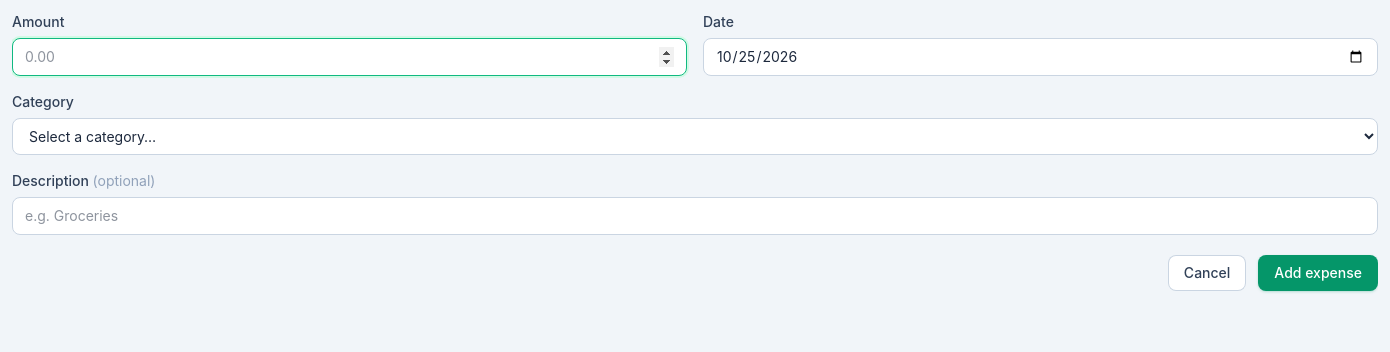
it: TransactionForm › requires an amount
Click the button "Add expense" at {"x": 1318, "y": 273}, box [1258,255,1378,291]
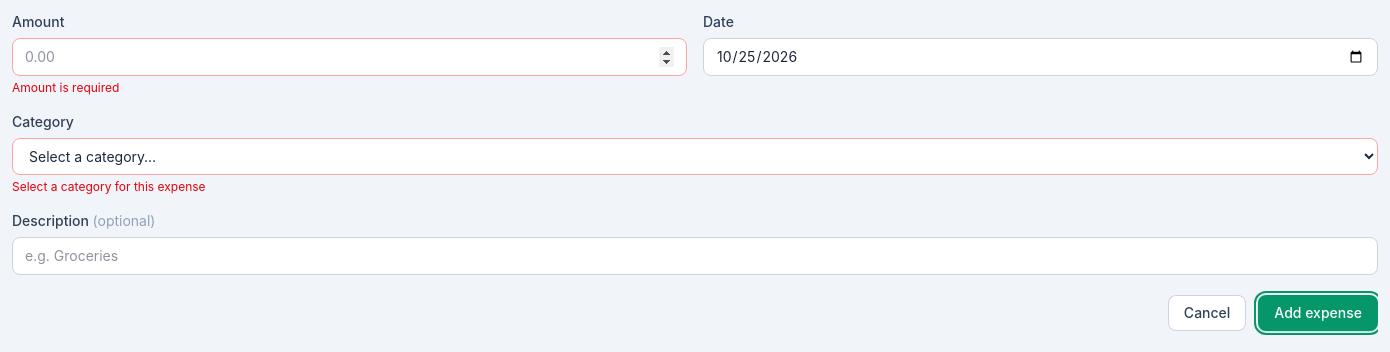
Check: the text "Amount is required" is shown, box [12,80,119,95]
